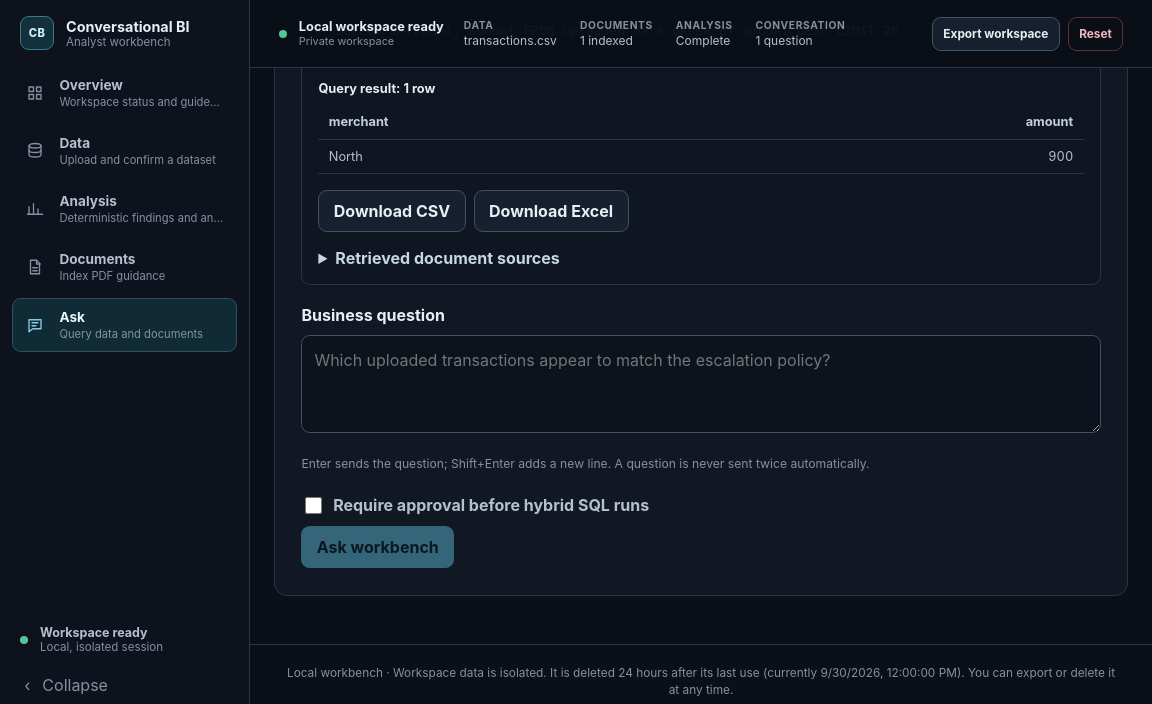
Test case: asking a question › when the server cannot be read either, pauses asking until a check confirms the outcome
(page scrolled)
In the text box labelled "Business question": [701, 384] box 301,335 -> 1101,433, type "What is the total revenue?"
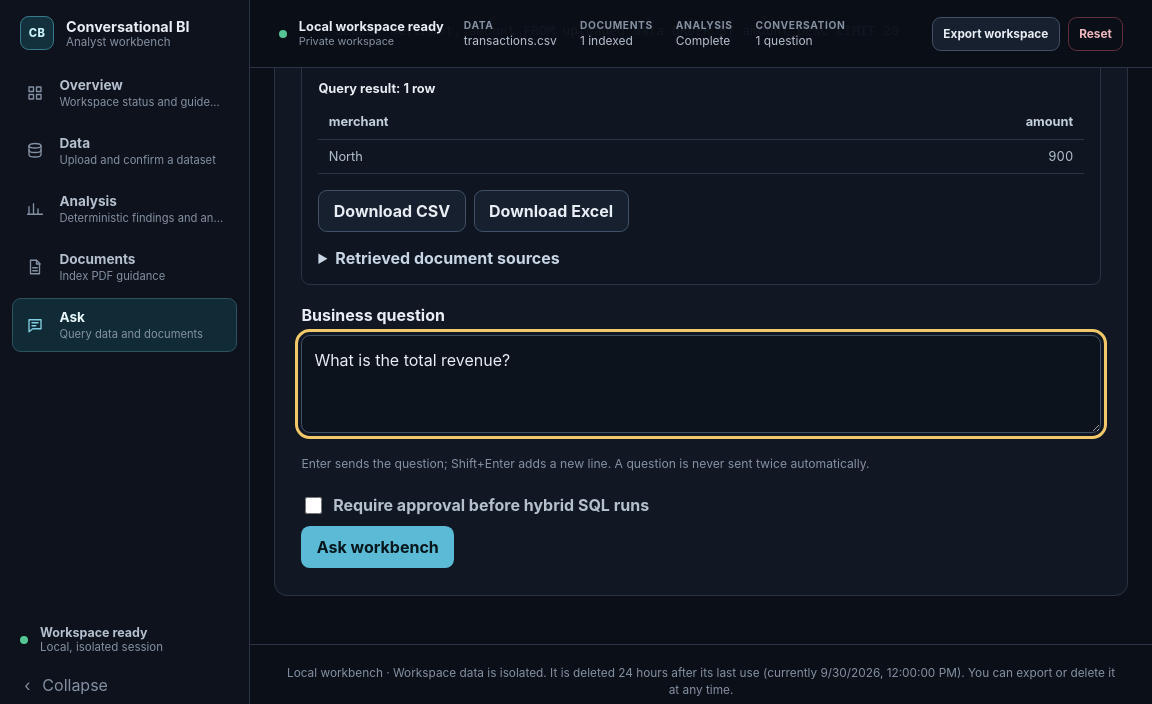
Click the button "Ask workbench": [378, 547] box 301,526 -> 454,568
(page scrolled)
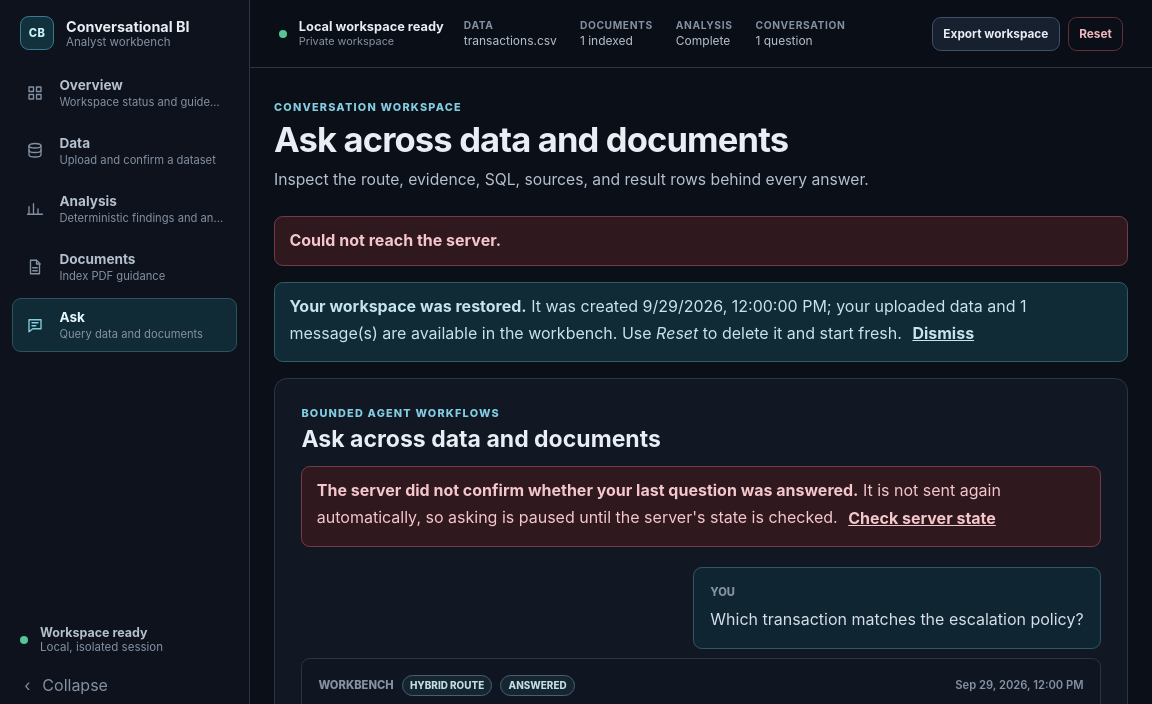
Click the button "Check server state": [922, 518] box 844,502 -> 1000,534
(page scrolled)
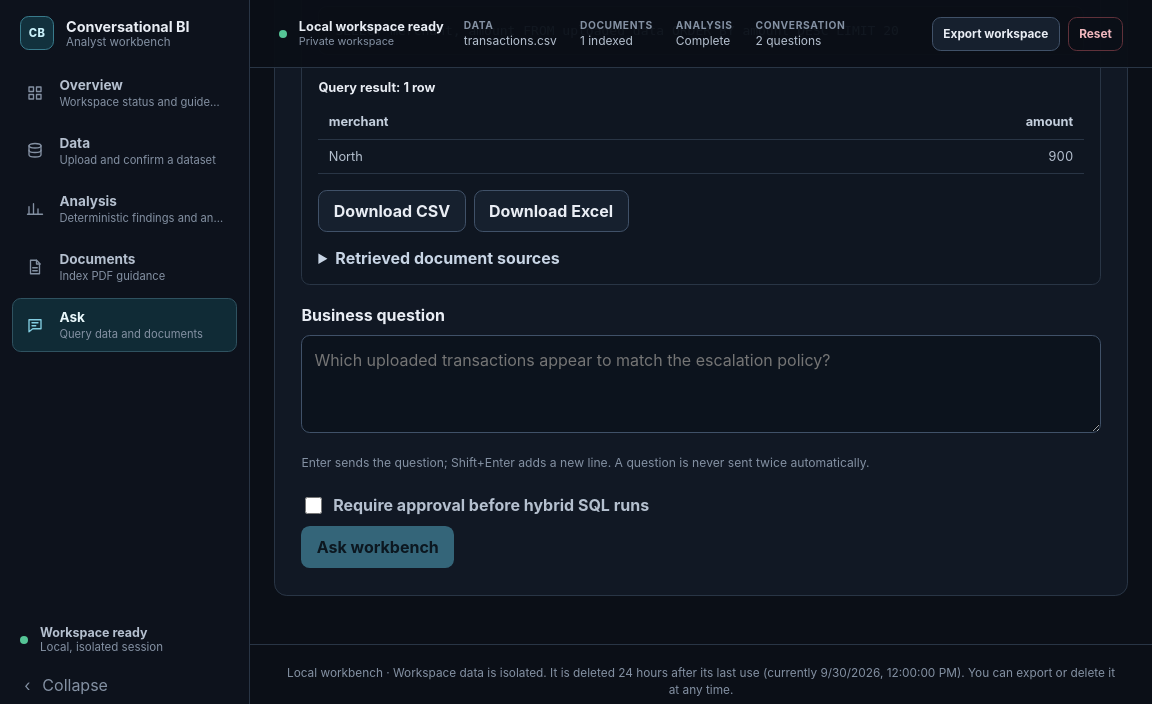
Now the button "Check server state" is gone
Now the text box labelled "Business question" is empty, box 301,335 -> 1101,433
